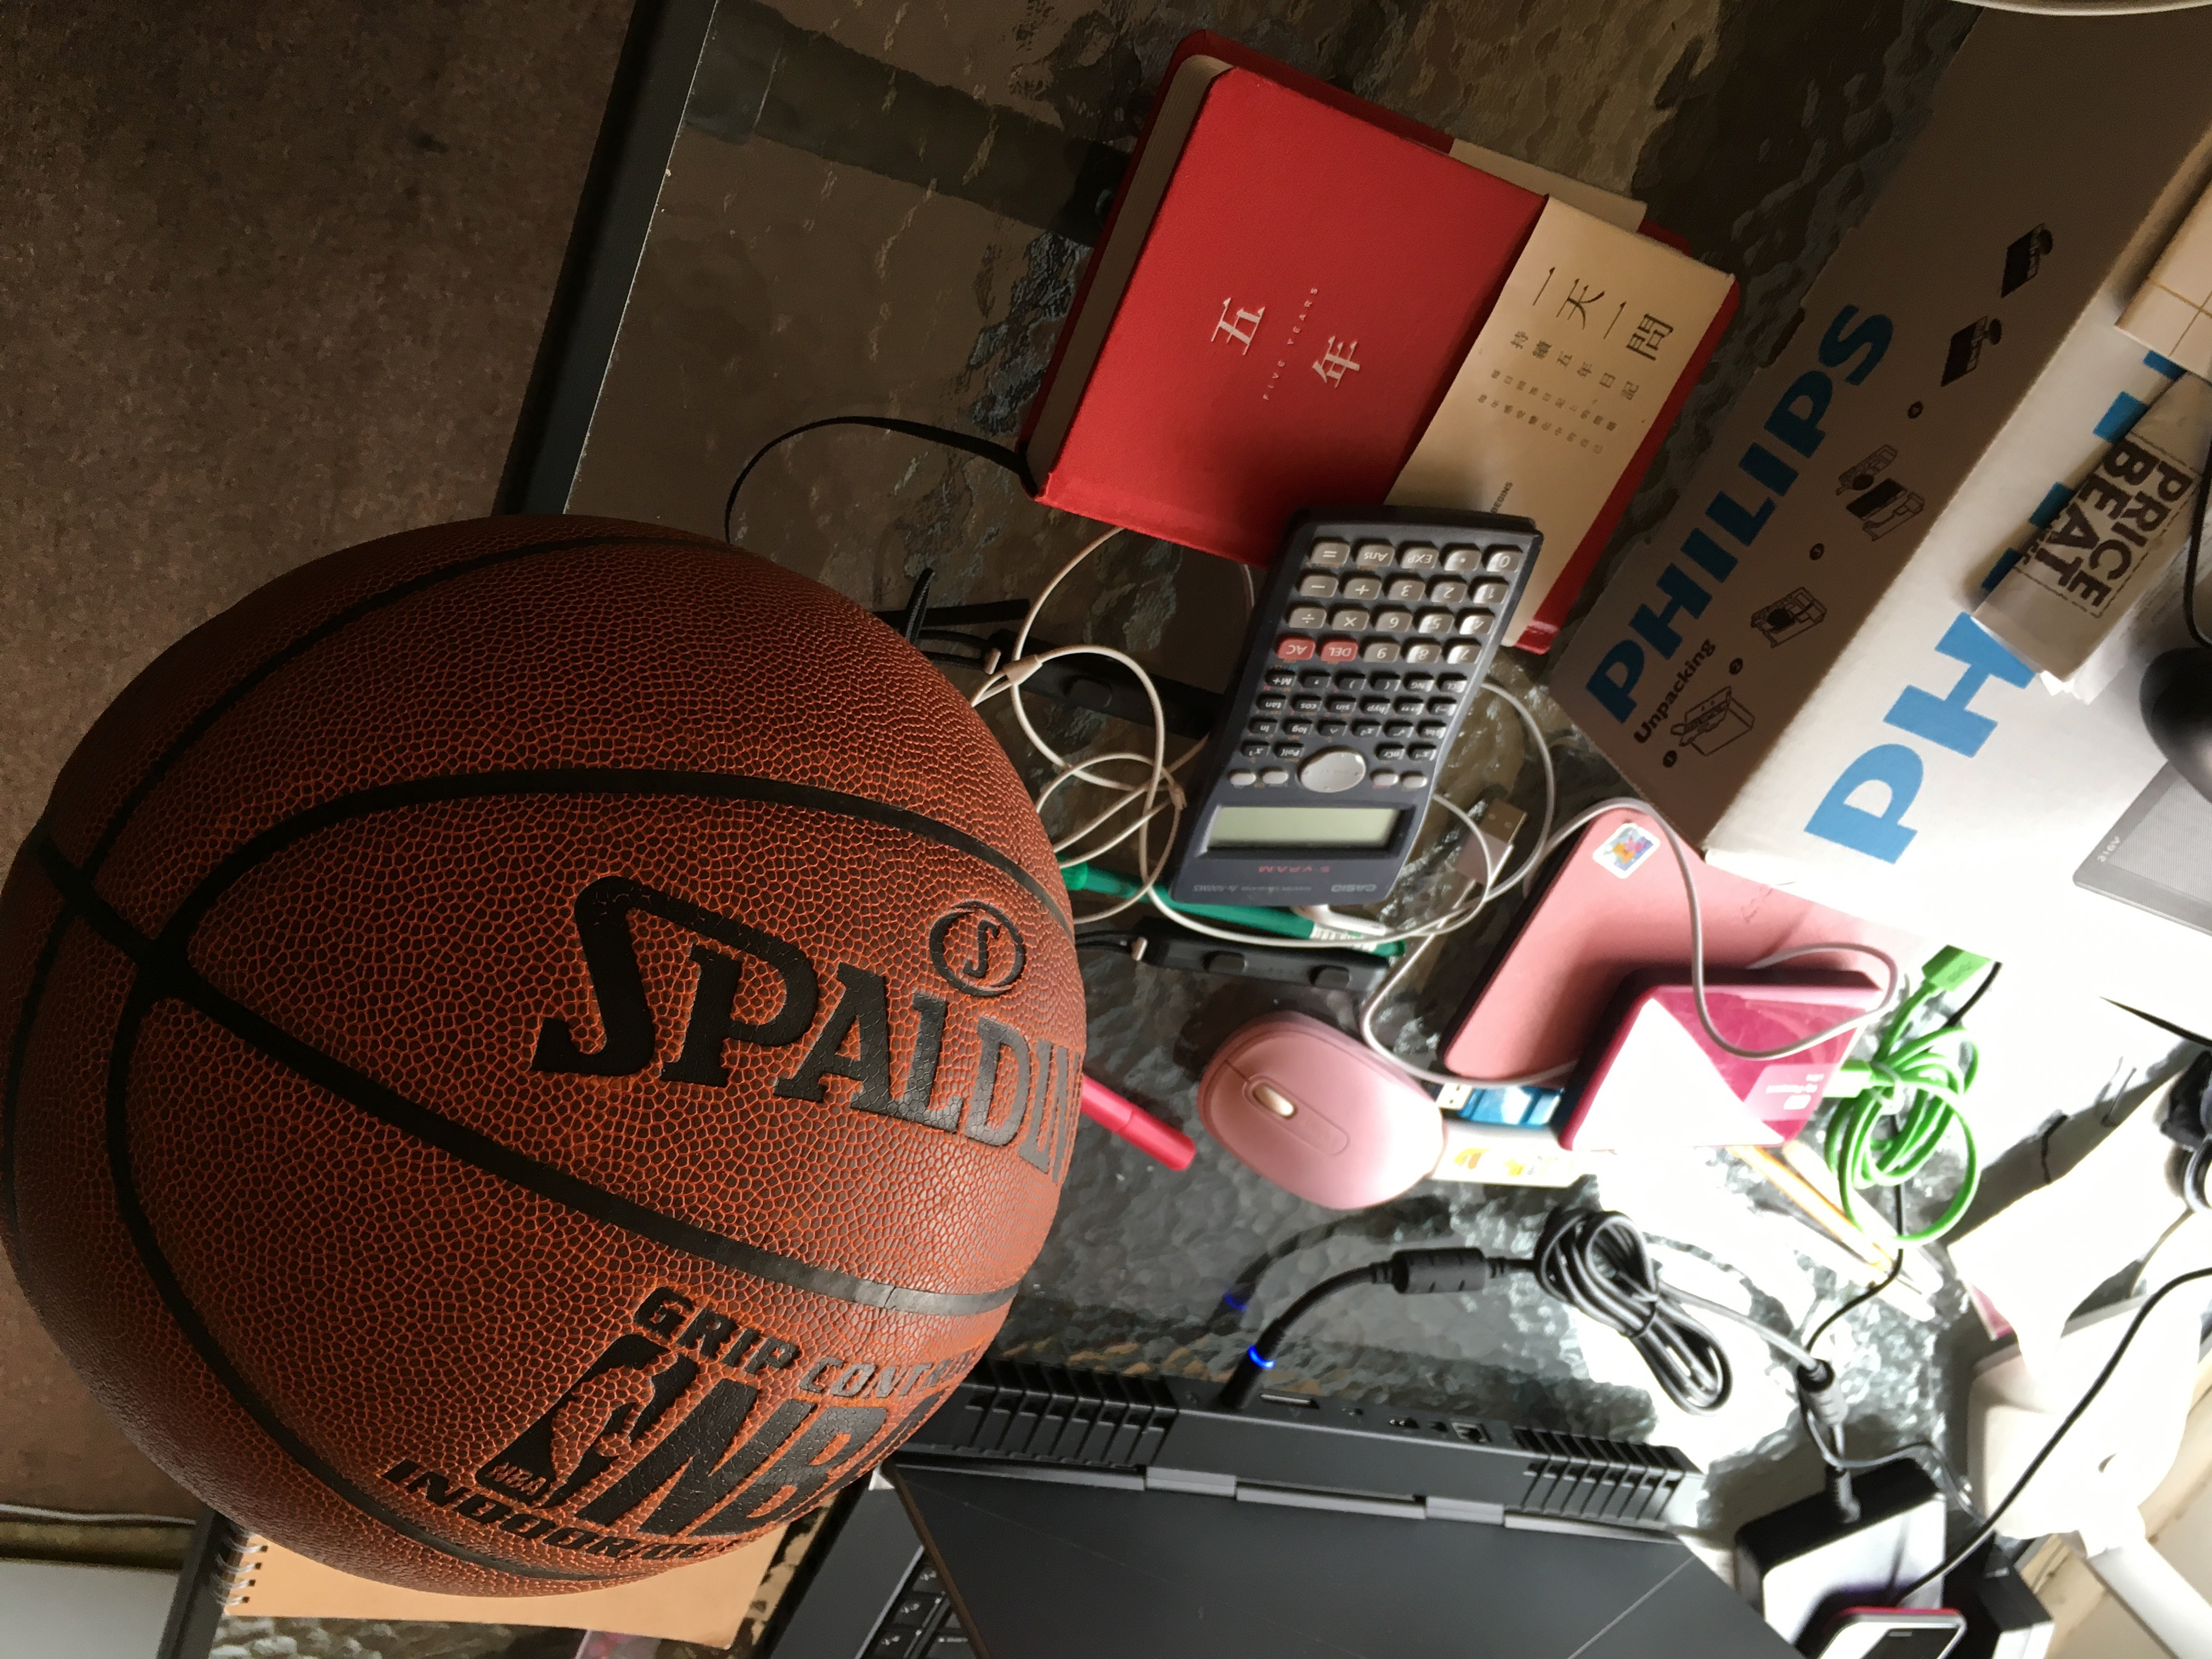Basketball: (0, 505, 1092, 1617)
Calculator: (1162, 500, 1543, 945)
